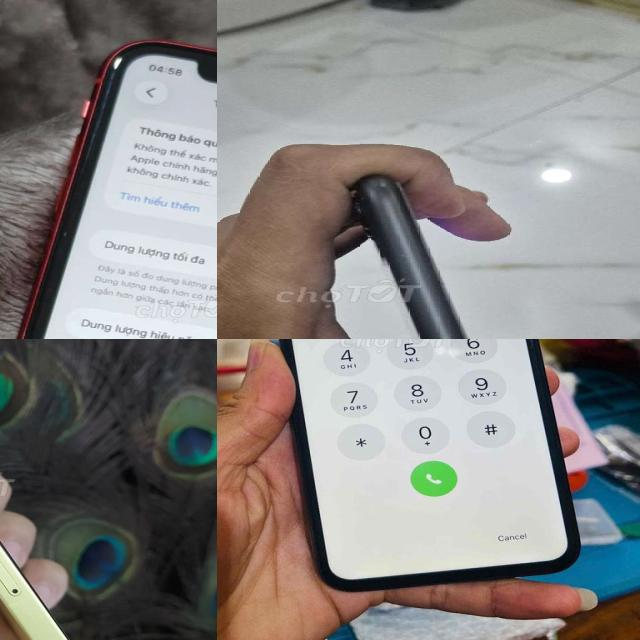gen_11: (256, 339, 592, 594), (0, 39, 217, 339), (334, 163, 496, 339)
gen_14: (0, 339, 131, 640)
scratch: (103, 55, 129, 70)
